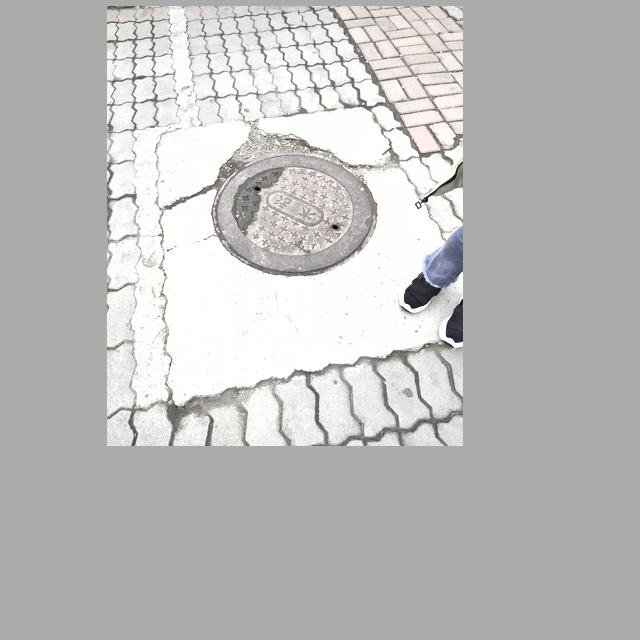circle: (171, 124, 409, 296)
